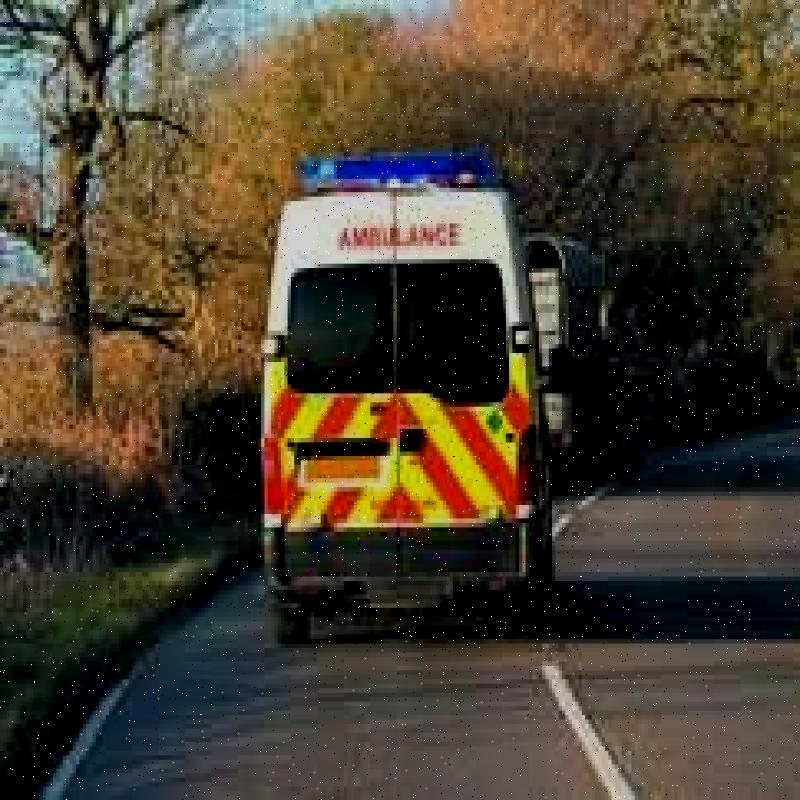ambulance: (242, 120, 582, 616)
